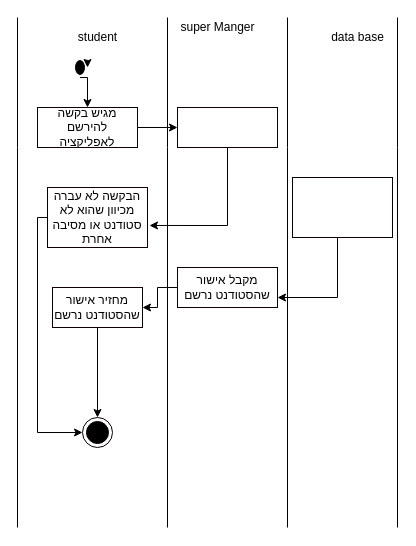
The diagram is 416 pixels wide and 546 high, and some of its shapes have lost their labels. The centre of each missing label's shape, as x and y in pixels:
בודק את הבקשה האם הוא סטודנט ומאיזה אוניברסיטה: the point at 227,127
רושם את הסטודנט במקום הנכון לפי האוניברסיטה שלו: the point at 342,207
